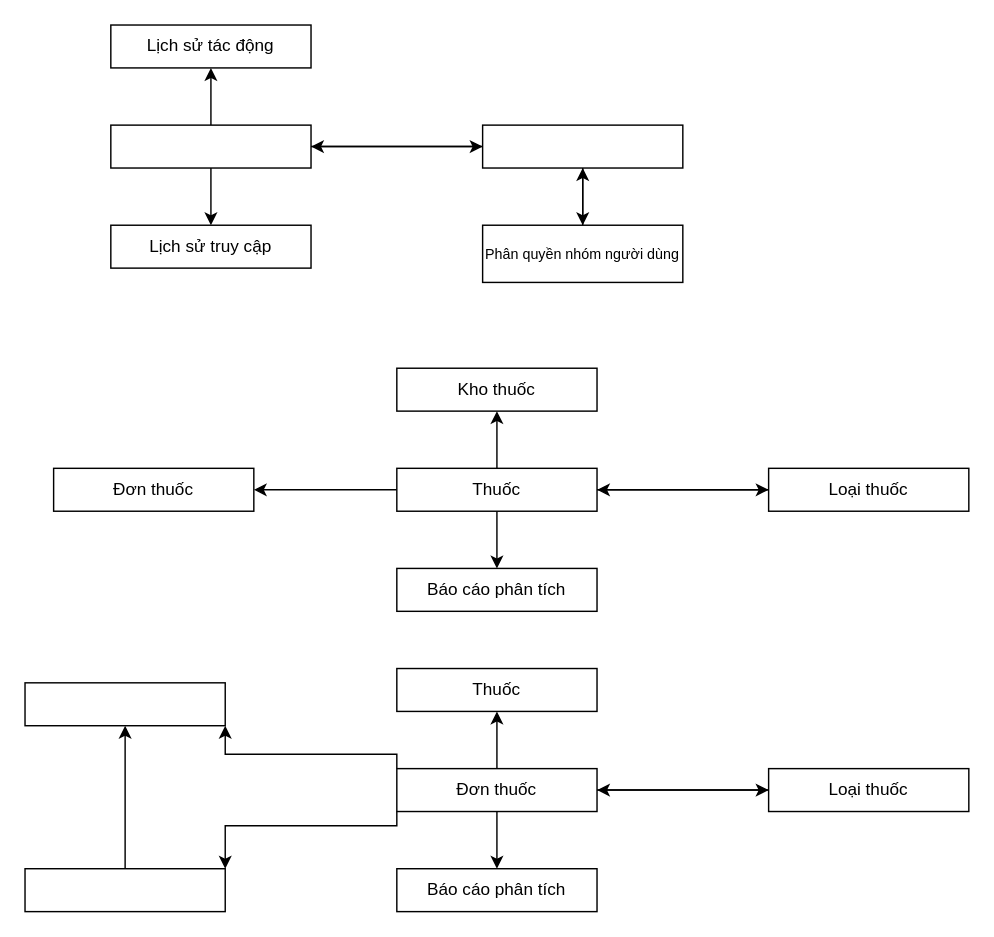
Image size: 994x937. Some labels were removed from this diagram. The centre of each missing label's shape, as x and y in pixels:
"Bệnh nhân" goes at pixel 124 889.
"Dược sĩ" goes at pixel 124 703.
"Người dùng" goes at pixel 210 146.
"Nhóm người dùng" goes at pixel 582 146.
